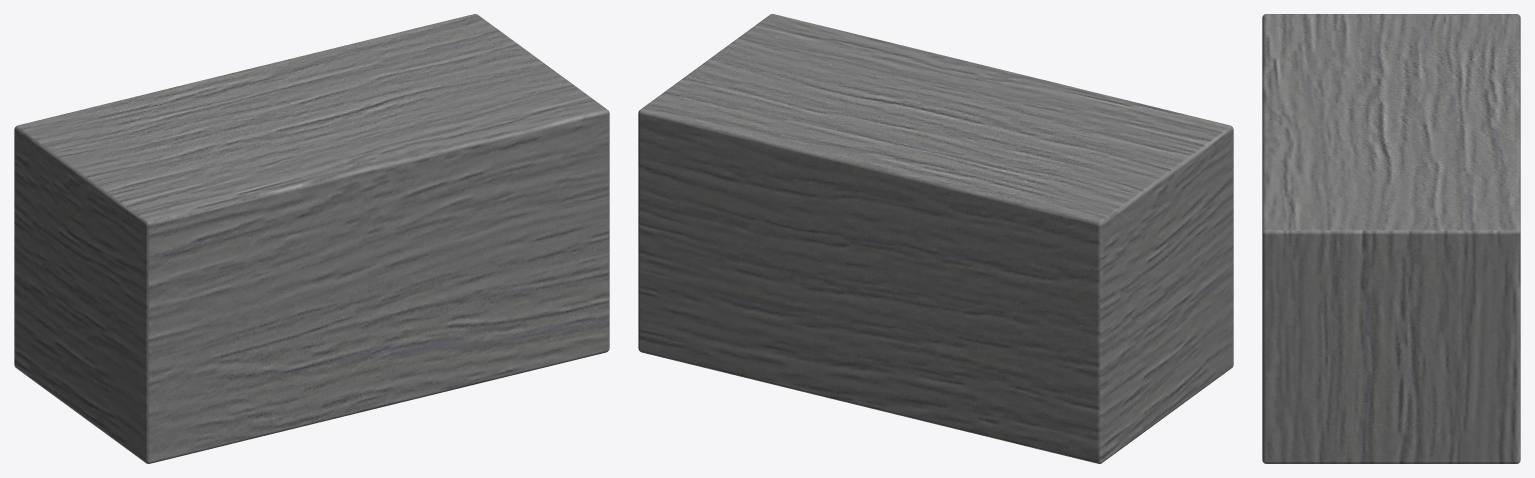
File: WallBlock001.obj
3 renders of one model, left to right at view 1: azimuth 30°, elevation 25°; view 2: azimuth 150°, elevation 25°; view 3: azimuth 270°, elevation 25°, orthographic. The views are drawn at different scales.
Visible parts, largest first — view 1: pCube1; view 2: pCube1; view 3: pCube1.
Part boxes in pixels (x1,y1,x2,y2): pCube1: (14,14,609,463); pCube1: (638,14,1233,463); pCube1: (1262,14,1520,463).
Bounding box in the file's own units: 200 × 100 × 100.
2 materials, 2 textured.
